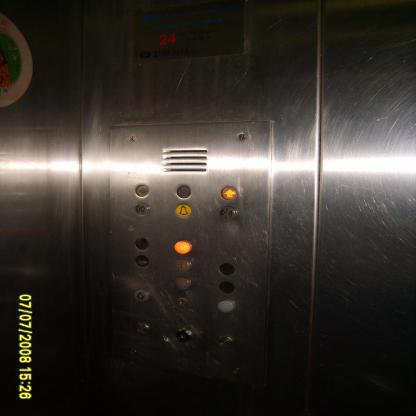1: (173, 258, 190, 274)
2: (173, 239, 192, 255)
DO: (132, 202, 150, 216)
alarm: (175, 204, 191, 218)
blur: (134, 183, 150, 197), (135, 236, 149, 250)
close: (216, 206, 236, 220)
empty: (216, 298, 236, 314), (217, 262, 236, 277), (174, 185, 192, 200), (133, 321, 151, 336), (217, 280, 236, 294), (174, 276, 192, 290), (216, 334, 234, 348), (135, 254, 150, 268)
keyhole: (175, 326, 193, 342), (176, 296, 187, 306)
up: (132, 288, 148, 304), (220, 186, 236, 201)
